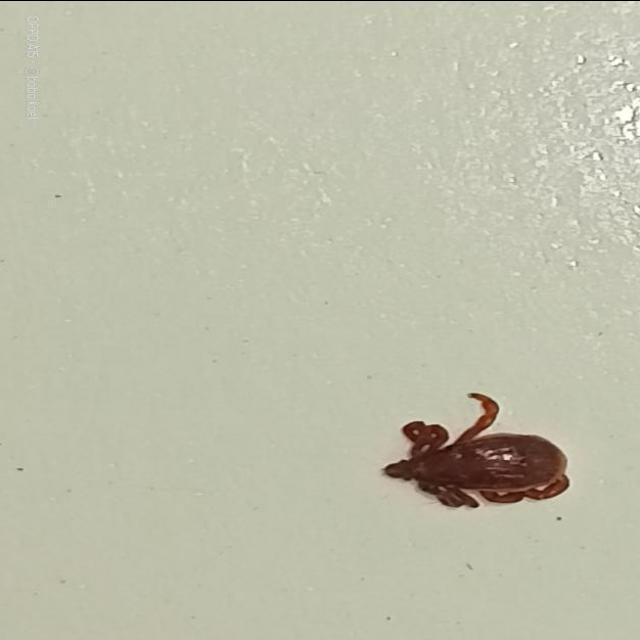Rhipicephalus Sanguineus-M: (379, 391, 569, 509)
